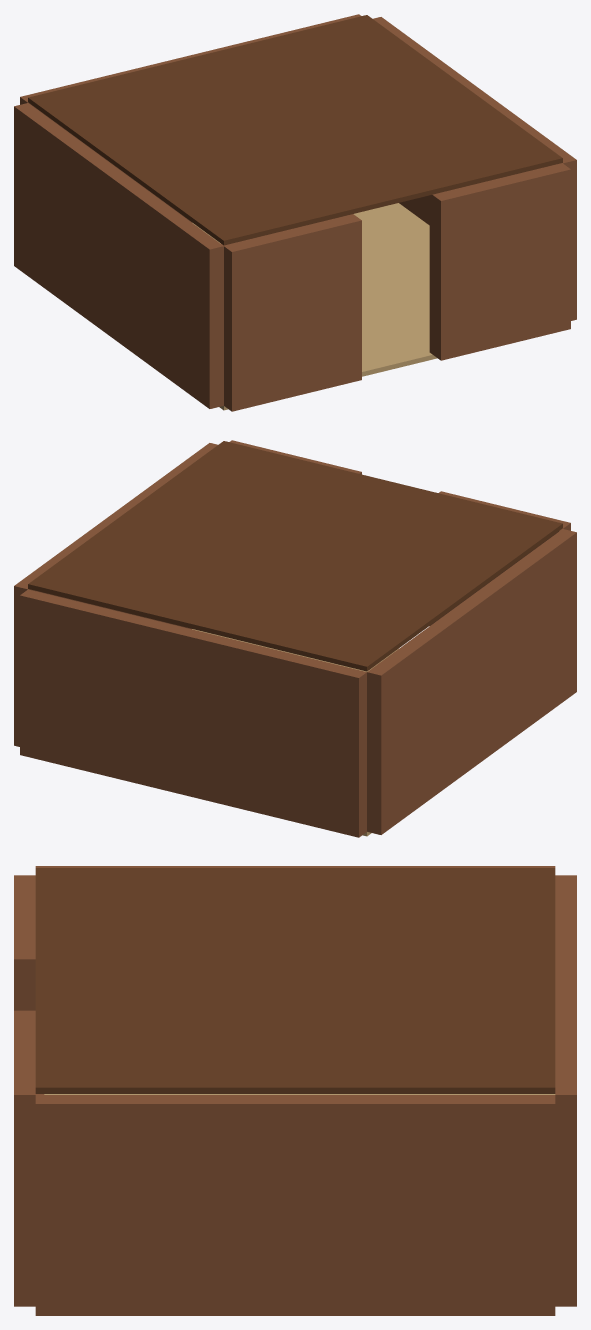
Rendered from room_shell.glb.
3 views of the same model, one above another, from view 1: azimuth 30°, elevation 25°; view 2: azimuth 150°, elevation 25°; view 3: azimuth 270°, elevation 25° (orthographic). The views are drawn at different scales.
Parts seen in each view (by area): view 1: room_shell; view 2: room_shell; view 3: room_shell.
Boxes of the visible parts, <box> form: room_shell: <box>14,14,576,411</box>; room_shell: <box>14,440,576,837</box>; room_shell: <box>14,866,576,1315</box>.
Bounding box in the file's own units: 6.5 × 2.87 × 6.5.
1 material, 1 textured.
